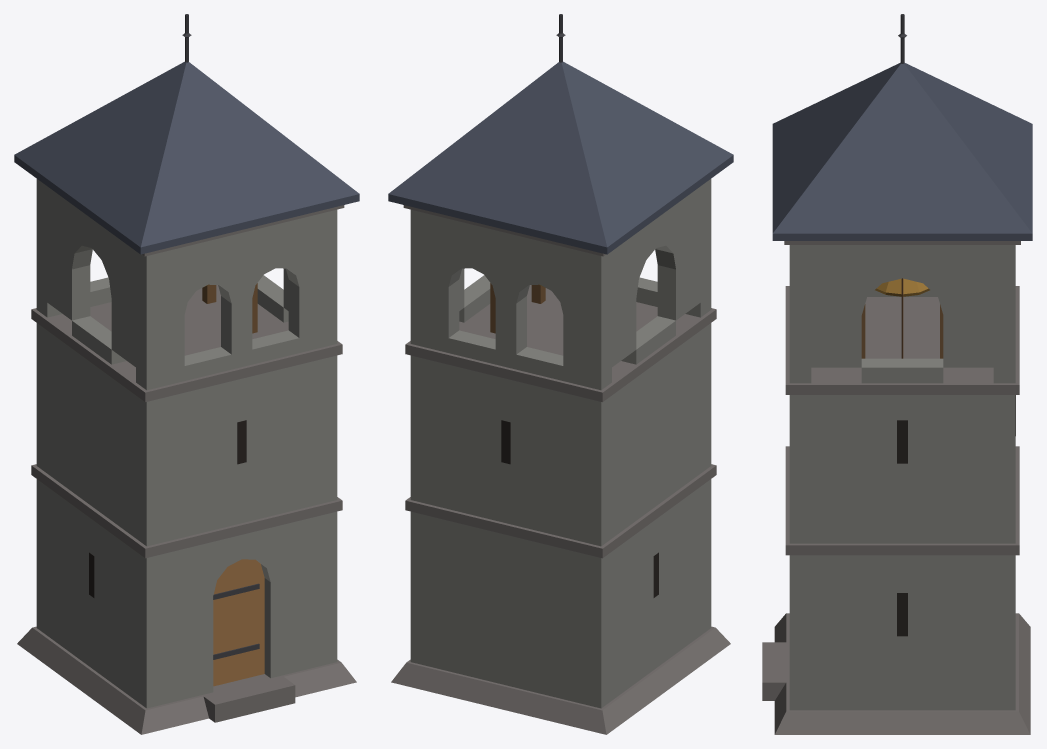
File: BellTower.fbx
3 views of the same model, side by side, from view 1: azimuth 30°, elevation 25°; view 2: azimuth 150°, elevation 25°; view 3: azimuth 270°, elevation 25° (orthographic). The views are drawn at different scales.
Visible parts, largest first — view 1: BellTower; view 2: BellTower; view 3: BellTower.
Part boxes in pixels (left/top/right/bottom): BellTower: left=14, top=14, right=359, bottom=734; BellTower: left=388, top=14, right=733, bottom=734; BellTower: left=762, top=14, right=1032, bottom=734.
Bounding box in the file's own units: 3.82 × 10.8 × 3.97.
